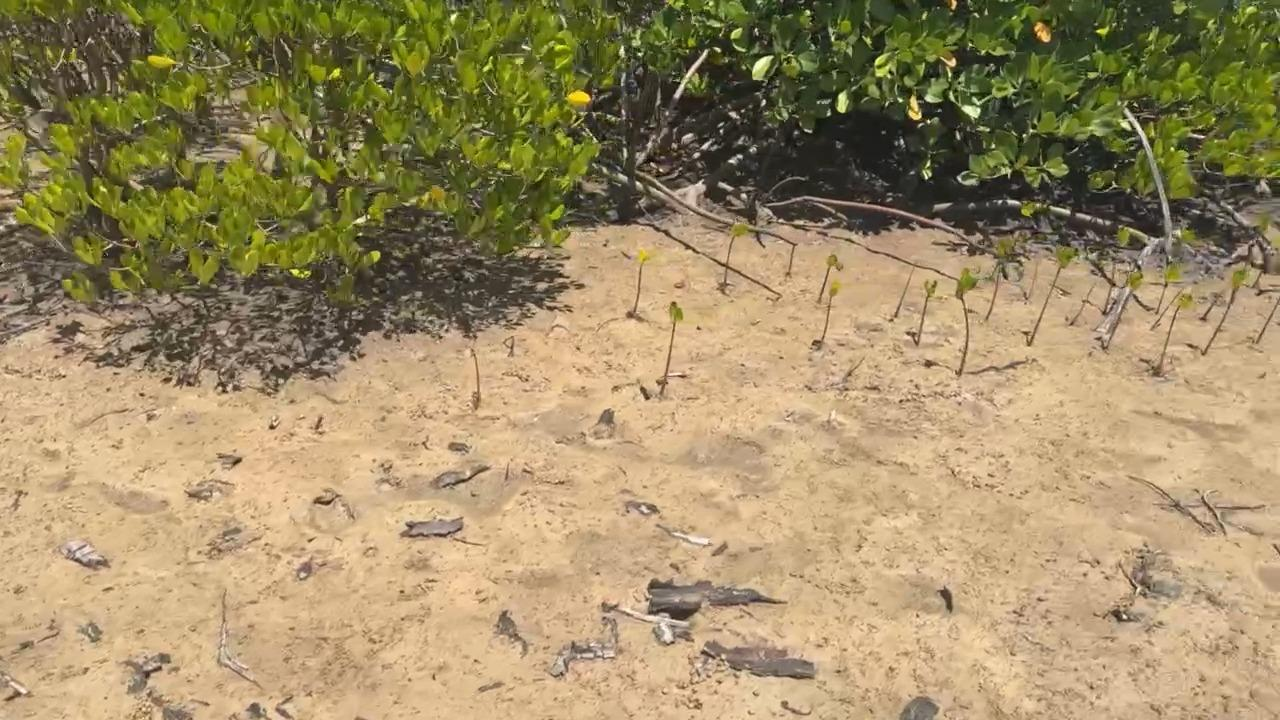Tree: (1027, 246, 1078, 346), (1201, 268, 1249, 355), (1155, 292, 1194, 376), (1102, 225, 1131, 313), (955, 268, 979, 374), (985, 239, 1015, 319), (660, 302, 685, 393), (1111, 270, 1142, 340), (723, 223, 749, 285), (1150, 288, 1186, 331), (916, 279, 939, 344), (1156, 261, 1184, 312), (633, 247, 654, 314), (894, 260, 918, 318), (1069, 282, 1097, 325), (822, 282, 842, 341), (1257, 298, 1280, 343), (820, 254, 843, 297), (472, 348, 480, 407), (1204, 294, 1222, 318), (787, 242, 796, 275)
